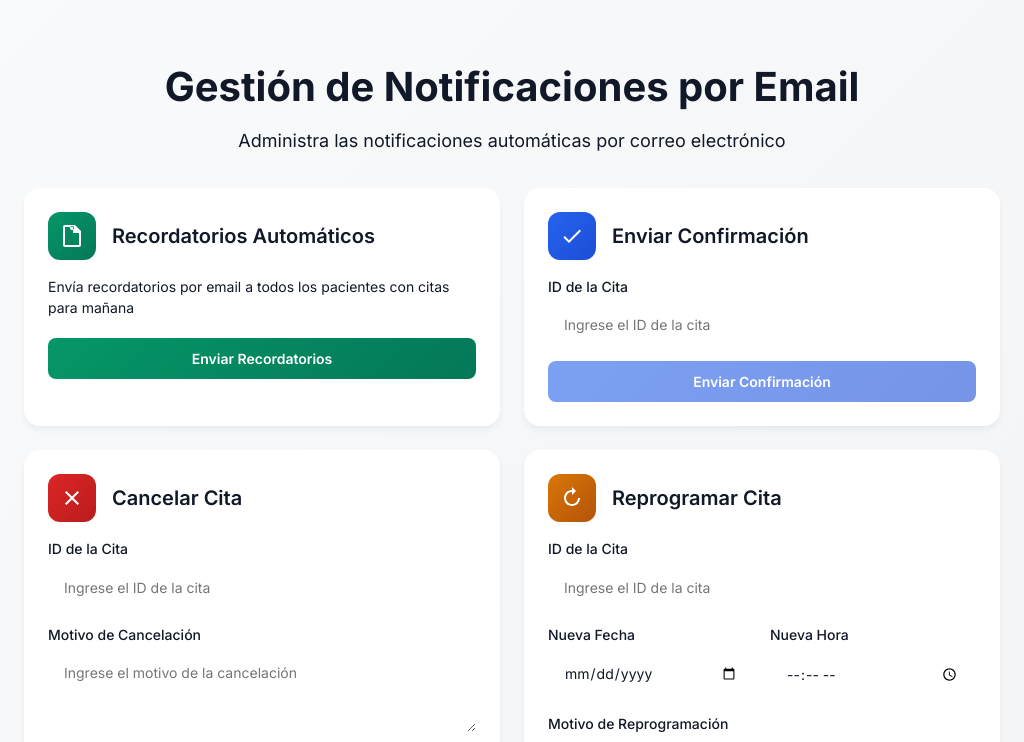
Test case: GestionEmails › envía email de cancelación y muestra resultado
The width and height of the screenshot is (1024, 742).
Type "456" into the 2nd number field with placeholder "Ingrese el ID de la cita".
click(262, 587); type("456")  # box [48, 567, 476, 608]
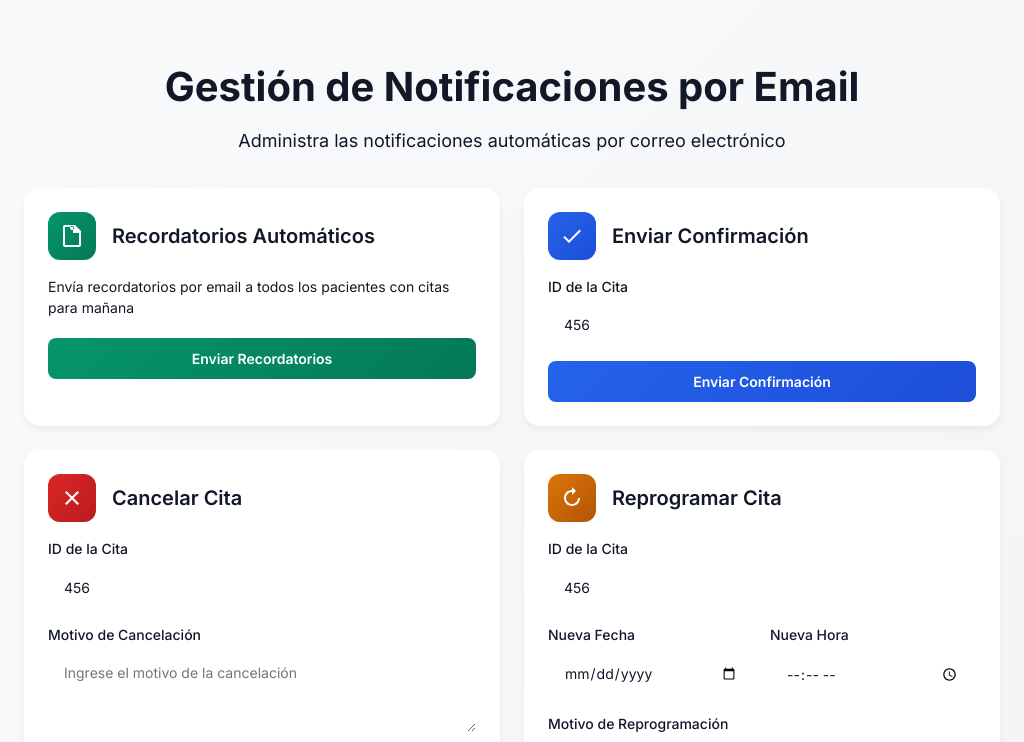
Type "Motivo X" into the text box with placeholder "Ingrese el motivo de la cancelación".
click(262, 692); type("Motivo X")  # box [48, 652, 476, 732]
(page scrolled)
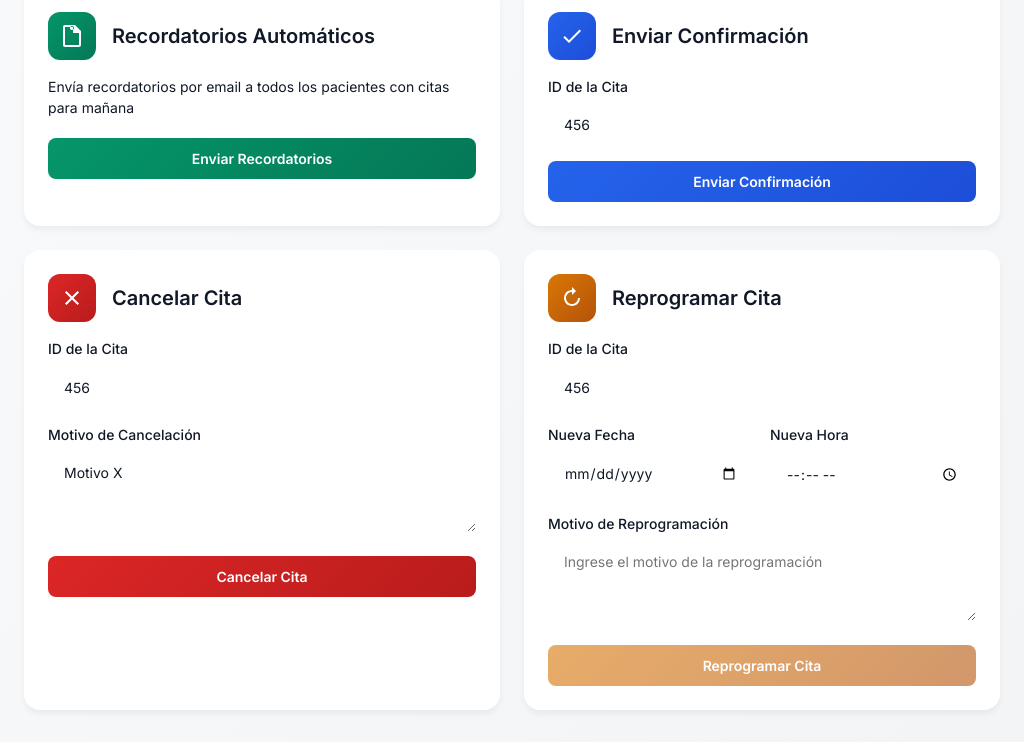
Click the button "Cancelar Cita".
click(262, 576)  # box [48, 556, 476, 597]
(page scrolled)
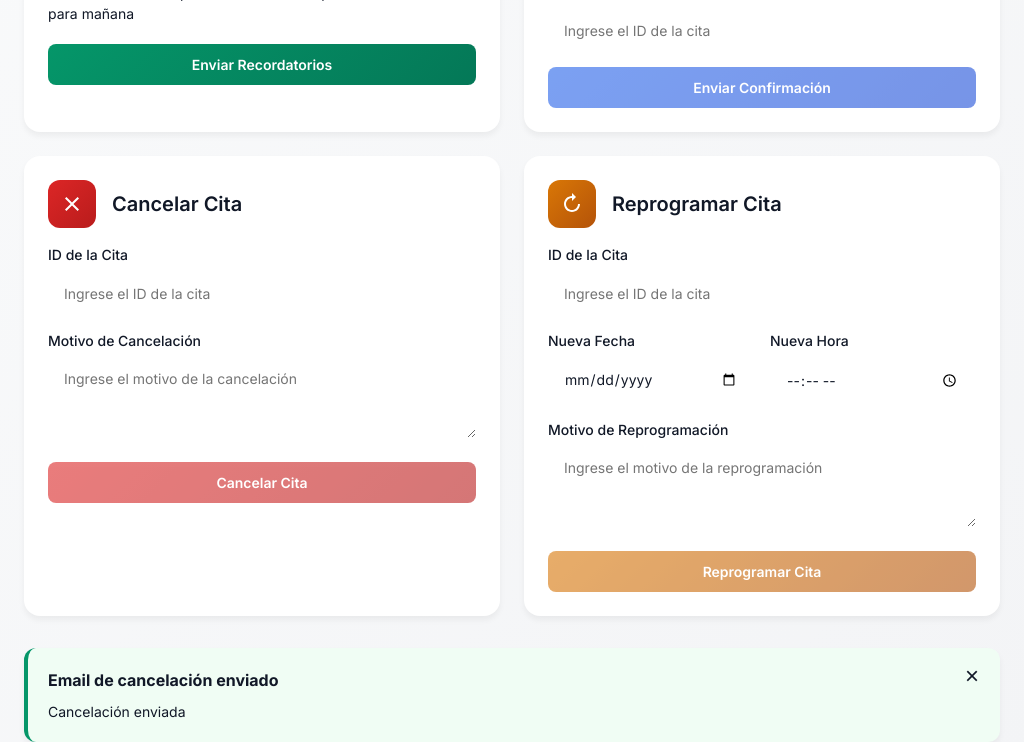
Result: the text "Email de cancelación enviado" is shown at [48, 670, 278, 690]
Result: the text "Cancelación enviada" is shown at [48, 703, 186, 720]
